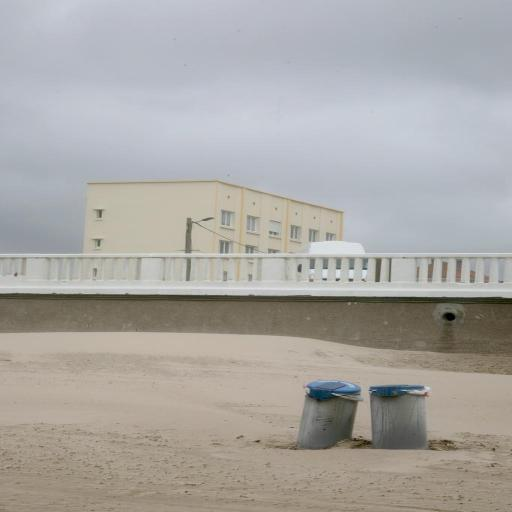trash-can: (359, 380, 448, 456), (298, 373, 364, 469)
